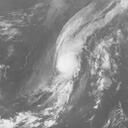cyclone: (53, 44, 81, 80)
